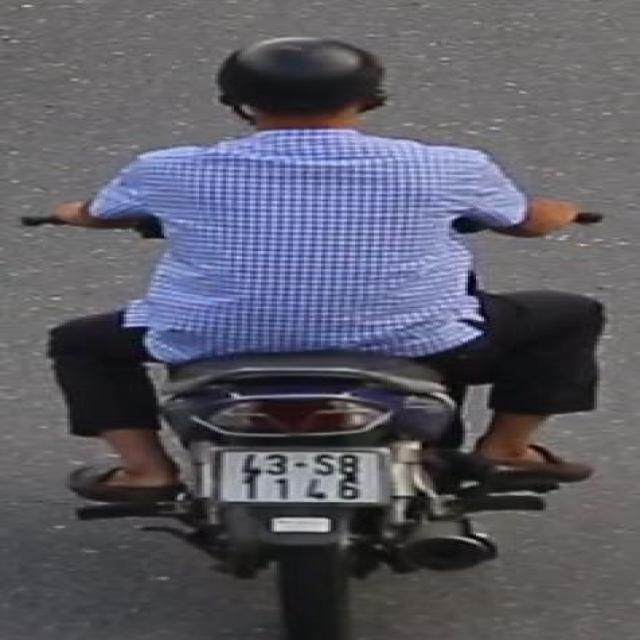LP: (210, 443, 395, 511)
helmet: (183, 31, 411, 150)
